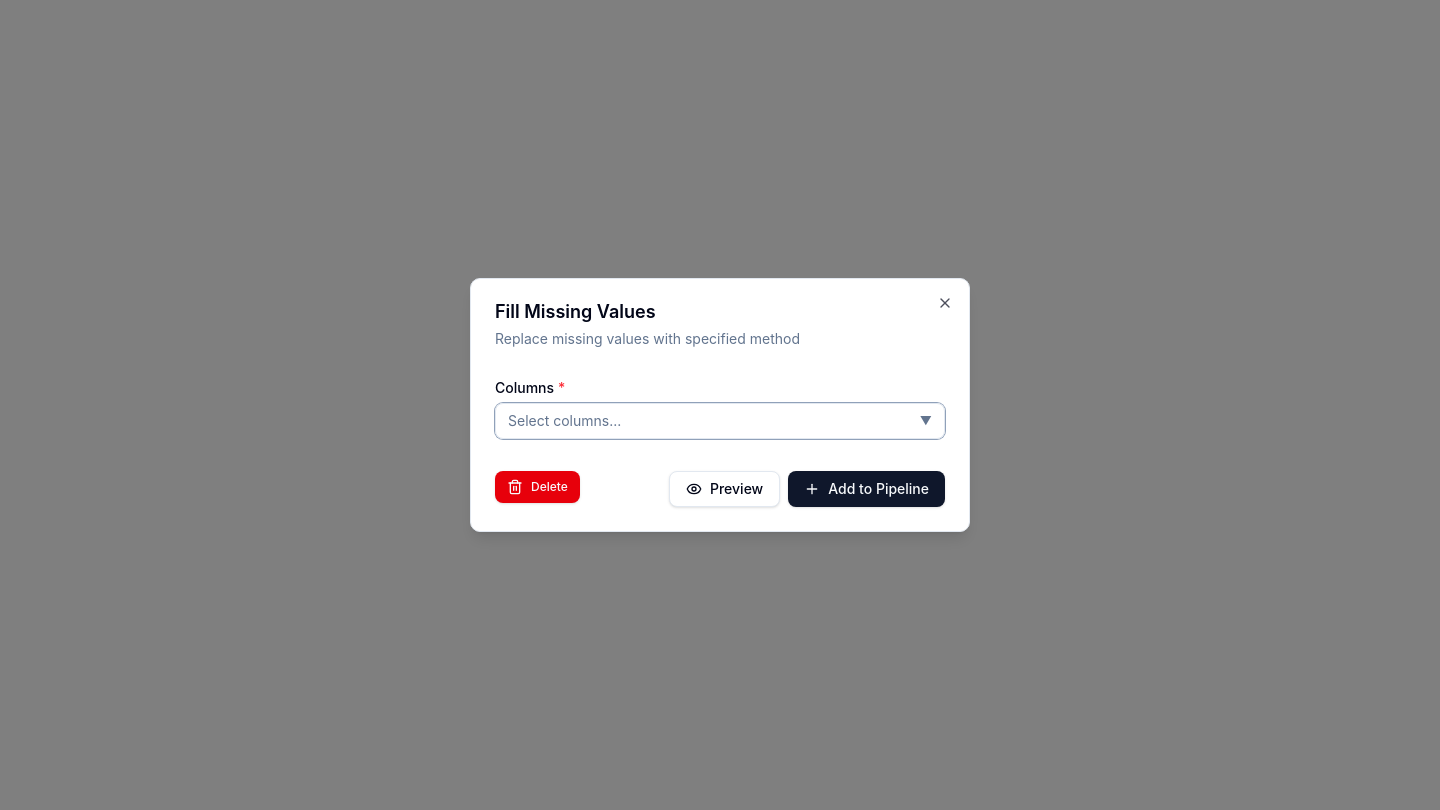
TransformationConfigDialog › Array/Multi-Select Parameters › opens and closes multi-select dropdown
This screenshot has width=1440, height=810.
Click the text "Select columns...".
click(565, 421)  # box left=508, top=411, right=621, bottom=431
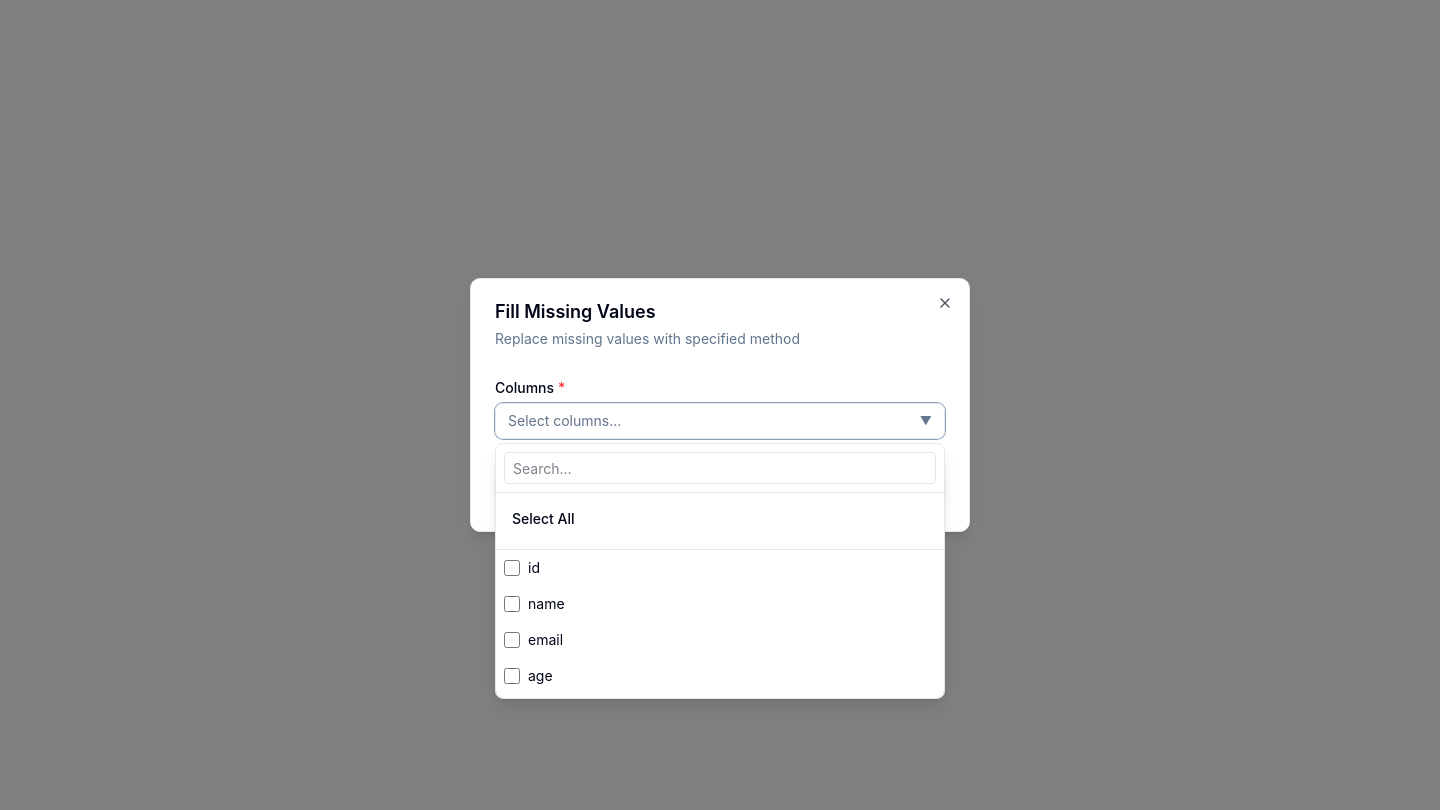
Result: the option "id" is shown at left=504, top=559, right=540, bottom=576
